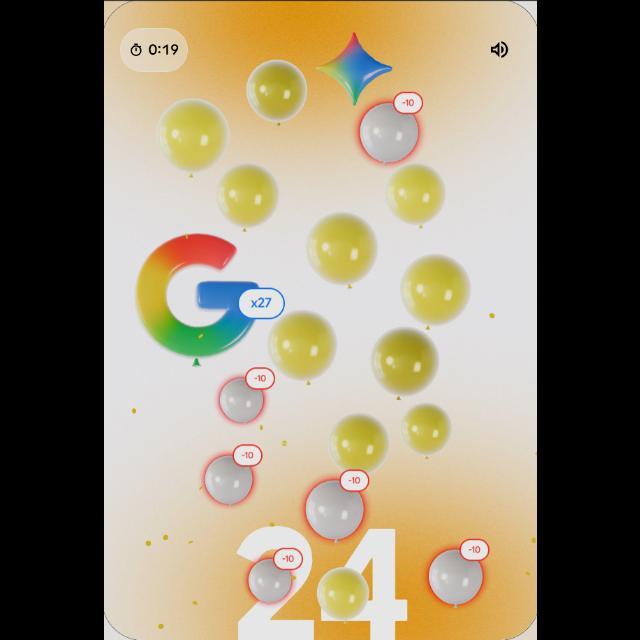gemini: (318, 32, 394, 106)
hazard: (351, 89, 429, 170), (304, 465, 371, 543), (426, 533, 492, 607), (214, 366, 274, 426), (246, 548, 304, 606), (202, 453, 254, 507)
safe: (268, 306, 342, 388), (153, 98, 229, 174), (303, 211, 379, 287), (398, 254, 469, 326), (368, 326, 438, 396), (382, 162, 450, 232), (214, 162, 278, 228), (243, 58, 307, 124), (326, 411, 389, 475), (314, 566, 370, 620), (399, 402, 451, 458)
super_g: (127, 232, 285, 368)
